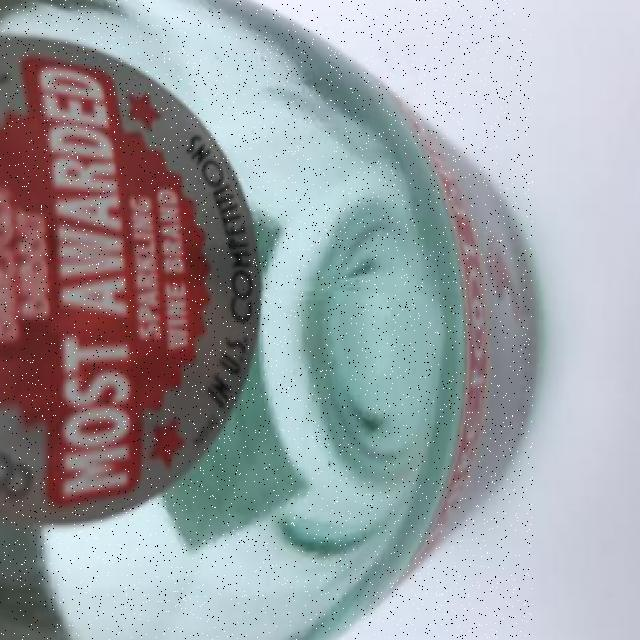glass: (0, 0, 533, 640)
